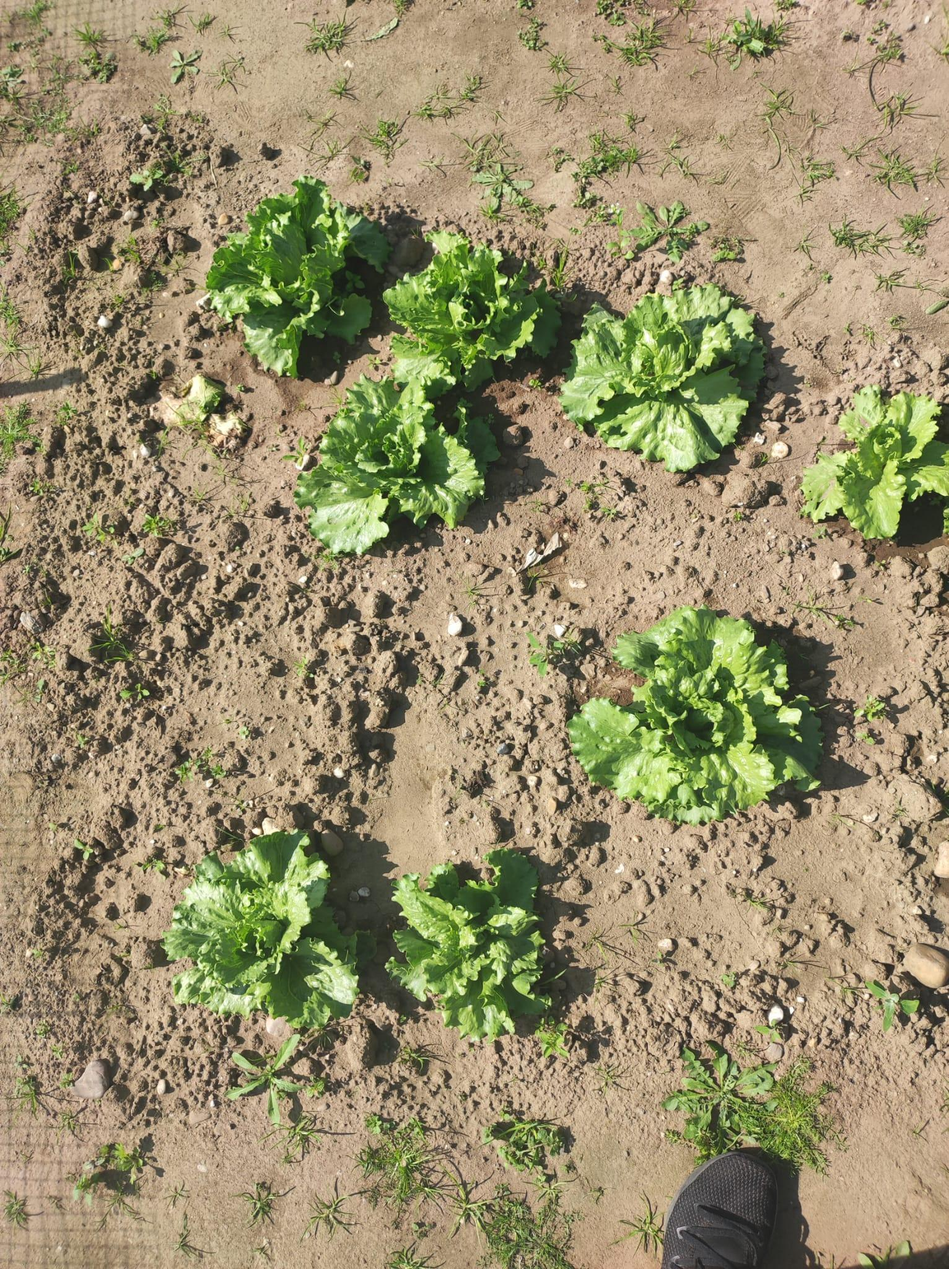Healthy: (569, 607, 823, 824), (162, 831, 368, 1030), (559, 284, 764, 471), (205, 174, 388, 376), (294, 376, 483, 553), (386, 850, 551, 1042), (383, 230, 561, 397), (802, 385, 949, 538)
